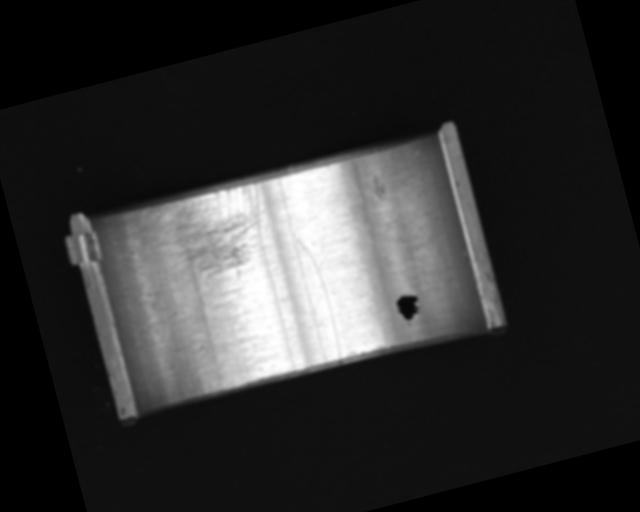blot: (393, 290, 425, 329)
bruise: (368, 172, 389, 201)
nick: (295, 233, 345, 364)
scratch: (141, 175, 281, 298)
